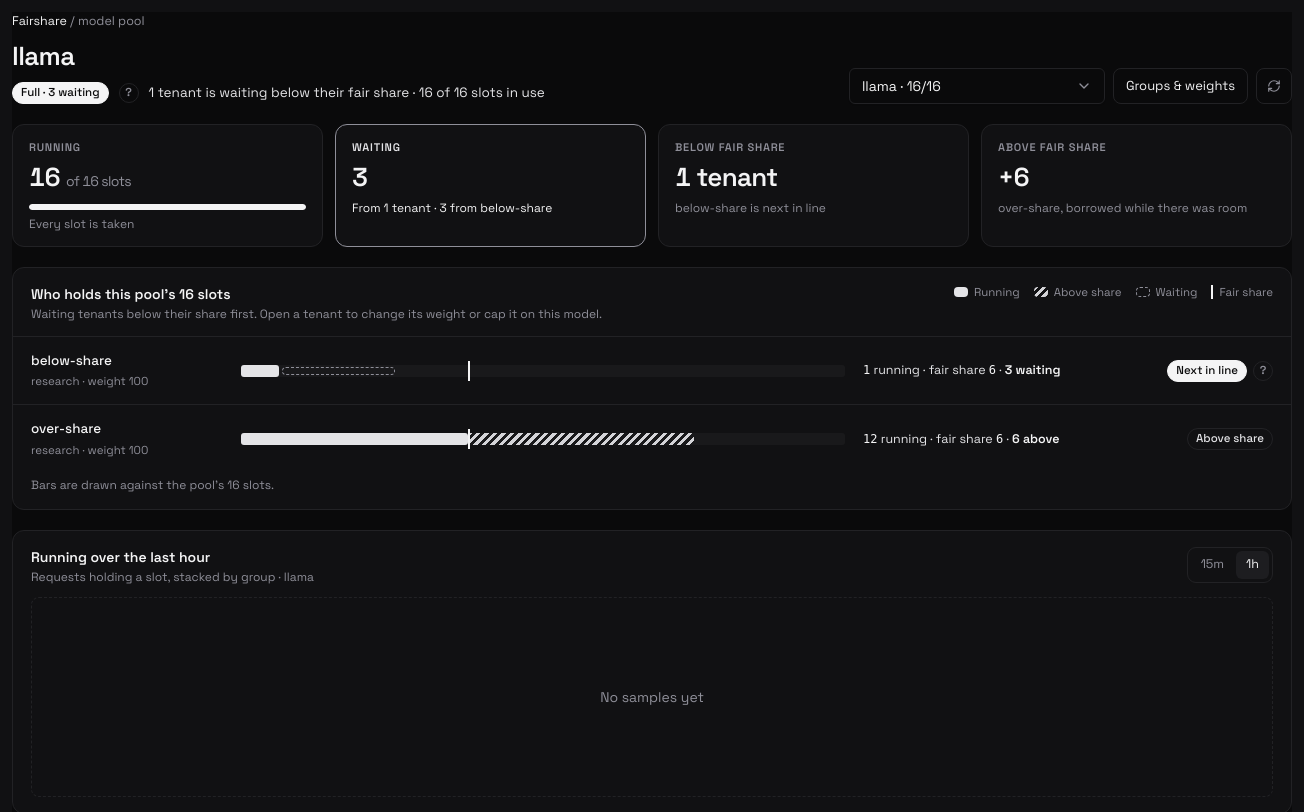
it: one pool › keeps what you can do behind the Full badge's (?)
Expected: the text "Grow the pool." is not shown
Click the button "?" in the row of "Full ·".
click(128, 93)  # box [118, 83, 138, 103]
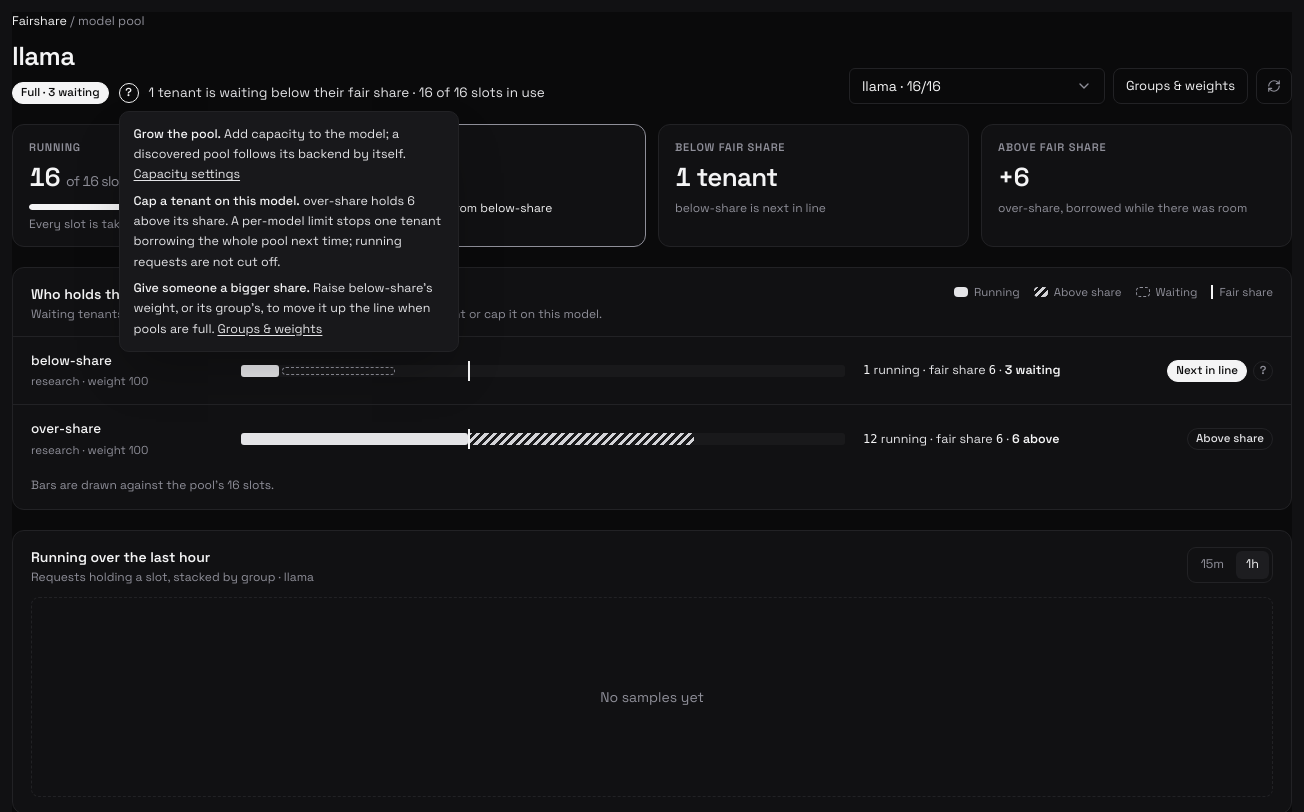
Now the tooltip shows "Grow the pool.", box [134, 126, 221, 142]
